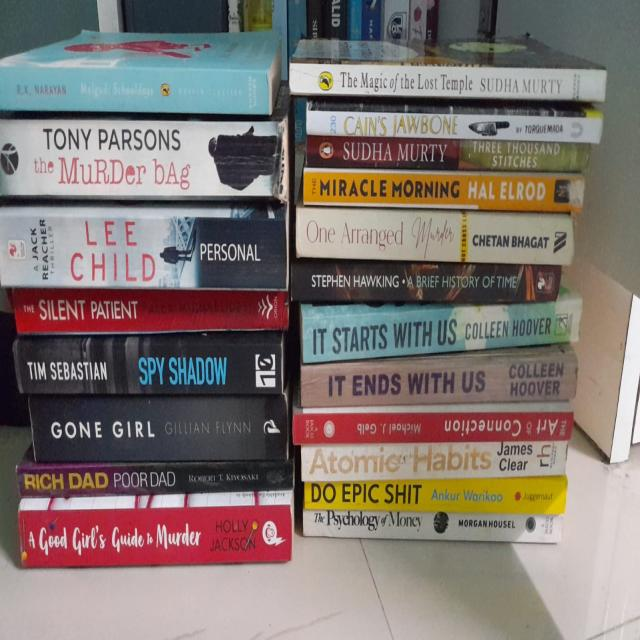book: (0, 210, 288, 292), (18, 504, 291, 568), (27, 397, 286, 461), (14, 339, 284, 396), (297, 210, 573, 265), (289, 61, 606, 106), (0, 62, 273, 108), (304, 360, 576, 406), (16, 458, 291, 502), (10, 292, 289, 335), (304, 171, 587, 213), (300, 504, 564, 544), (302, 442, 569, 479), (308, 136, 590, 171), (293, 413, 573, 445)
